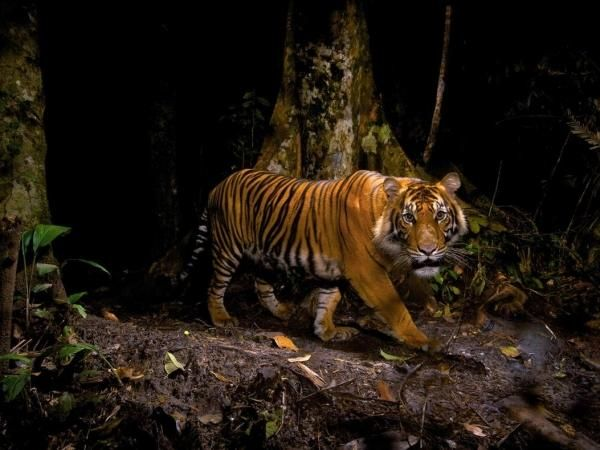Tigrew: (148, 141, 487, 352)
